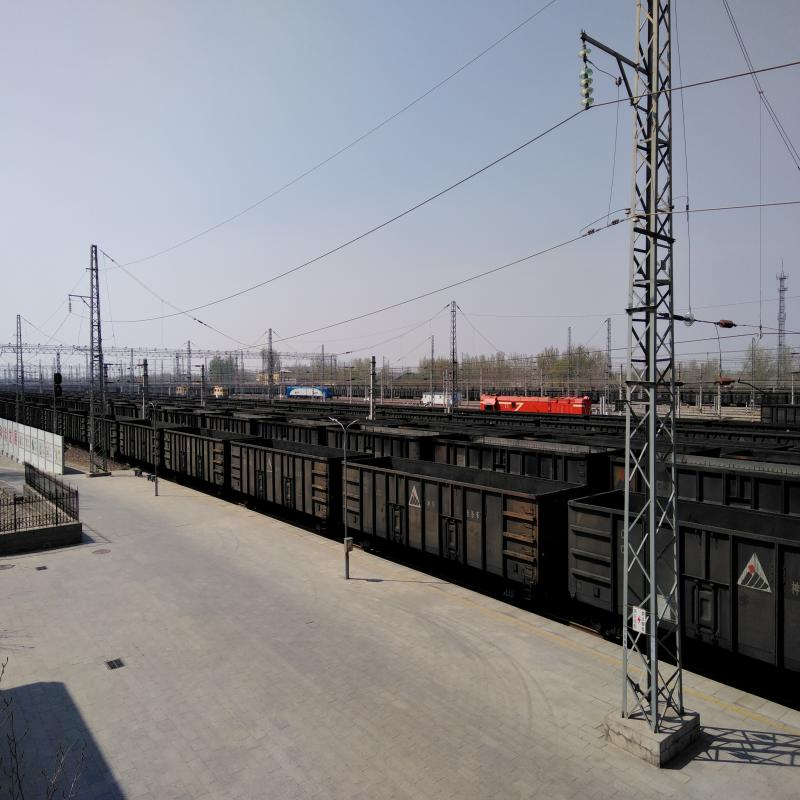train: (349, 456, 548, 589), (235, 438, 339, 529)
